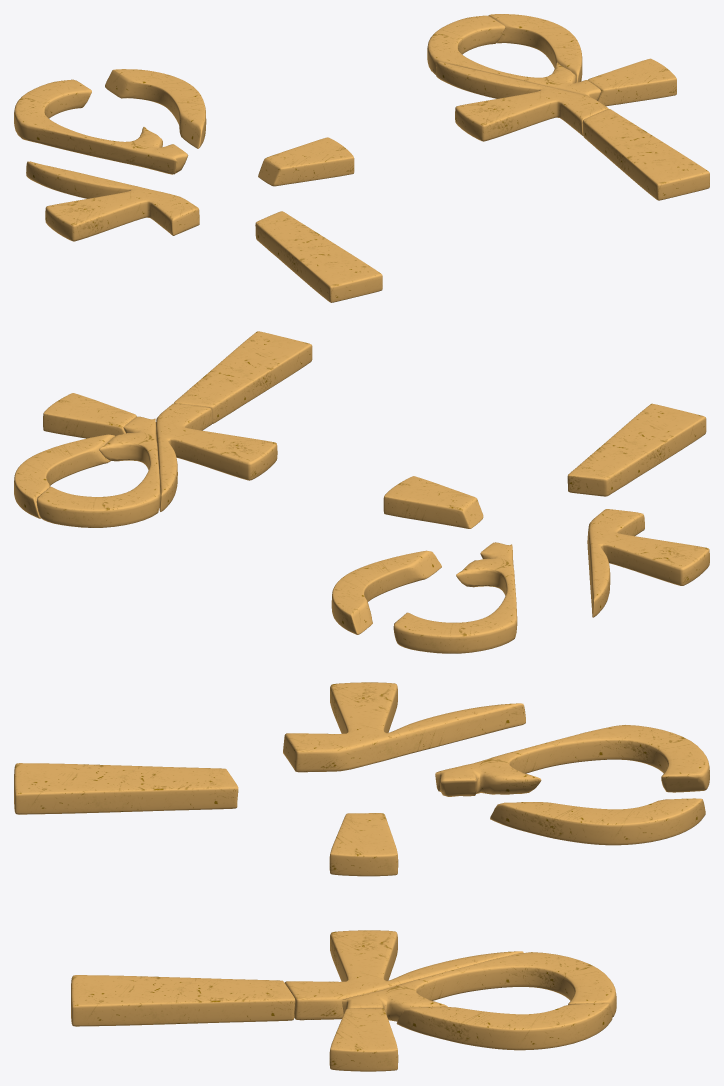
File: golden_cross_egyptian_puzzle.glb
3 renders of one model, top to bottom at view 1: azimuth 30°, elevation 25°; view 2: azimuth 150°, elevation 25°; view 3: azimuth 270°, elevation 25°, orthographic. The views are drawn at different scales.
Parts seen in each view (by area): view 1: shard18, shard11, shard17, shard16, shard12, shard13, shard19, shard20, shard14, shard15; view 2: shard16, shard18, shard11, shard17, shard13, shard12, shard19, shard20, shard14, shard15; view 3: shard18, shard16, shard12, shard17, shard13, shard19, shard14, shard11, shard15, shard20.
Part boxes in pixels (bbox=[...]): shard18: bbox=[26, 161, 199, 241]; shard11: bbox=[436, 61, 608, 141]; shard17: bbox=[14, 79, 188, 174]; shard16: bbox=[255, 211, 382, 302]; shard12: bbox=[582, 109, 709, 200]; shard13: bbox=[427, 15, 601, 100]; shard19: bbox=[105, 69, 206, 148]; shard20: bbox=[258, 137, 354, 186]; shard14: bbox=[488, 14, 582, 82]; shard15: bbox=[587, 58, 676, 106]; shard16: bbox=[567, 403, 706, 496]; shard18: bbox=[587, 509, 709, 617]; shard11: bbox=[156, 403, 277, 511]; shard17: bbox=[393, 542, 517, 653]; shard13: bbox=[36, 416, 160, 527]; shard12: bbox=[174, 331, 312, 423]; shard19: bbox=[331, 550, 441, 634]; shard20: bbox=[383, 476, 483, 528]; shard14: bbox=[14, 434, 114, 518]; shard15: bbox=[43, 393, 136, 438]; shard18: bbox=[283, 682, 525, 772]; shard16: bbox=[14, 763, 238, 814]; shard12: bbox=[71, 975, 295, 1026]; shard17: bbox=[435, 725, 709, 796]; shard13: bbox=[342, 952, 616, 1021]; shard19: bbox=[490, 798, 705, 845]; shard14: bbox=[396, 1003, 612, 1050]; shard11: bbox=[285, 930, 523, 1020]; shard15: bbox=[329, 1008, 398, 1071]; shard20: bbox=[329, 813, 398, 876].
Bounding box in the file's own units: 35.19 × 1 × 27.98.
5 materials, 5 textured.
